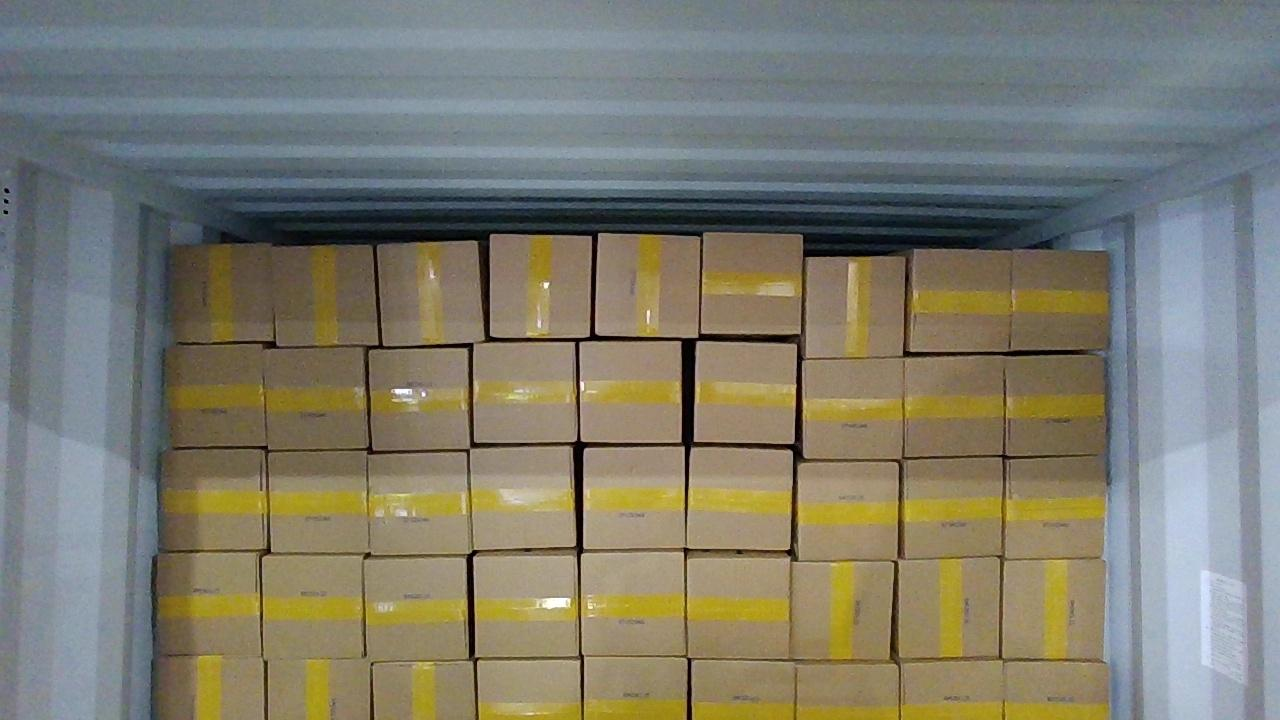carton: (471, 550, 578, 657), (692, 340, 798, 446), (377, 241, 485, 345), (685, 447, 793, 551), (593, 233, 699, 338), (155, 552, 261, 656), (471, 342, 578, 445), (488, 234, 592, 339), (471, 445, 576, 549), (580, 446, 686, 549), (579, 551, 684, 654), (687, 551, 788, 658), (906, 250, 1010, 353), (579, 341, 683, 444), (365, 556, 469, 659), (262, 552, 363, 658), (272, 246, 380, 345), (701, 233, 803, 336), (803, 256, 906, 358), (895, 558, 999, 659), (161, 448, 266, 548), (793, 460, 898, 560), (265, 348, 368, 449), (370, 451, 471, 554), (1001, 560, 1106, 659), (800, 358, 902, 459), (268, 451, 368, 554), (1005, 354, 1106, 455), (369, 348, 469, 450), (901, 457, 1002, 557), (1005, 457, 1106, 557), (904, 356, 1004, 456), (165, 345, 264, 446), (791, 561, 893, 658), (170, 245, 273, 341), (1011, 250, 1109, 350), (156, 655, 264, 719), (584, 658, 688, 719), (1004, 660, 1109, 719), (477, 659, 580, 719), (692, 660, 795, 719), (267, 660, 369, 719), (373, 661, 476, 719), (796, 661, 898, 719), (901, 661, 1002, 719)
